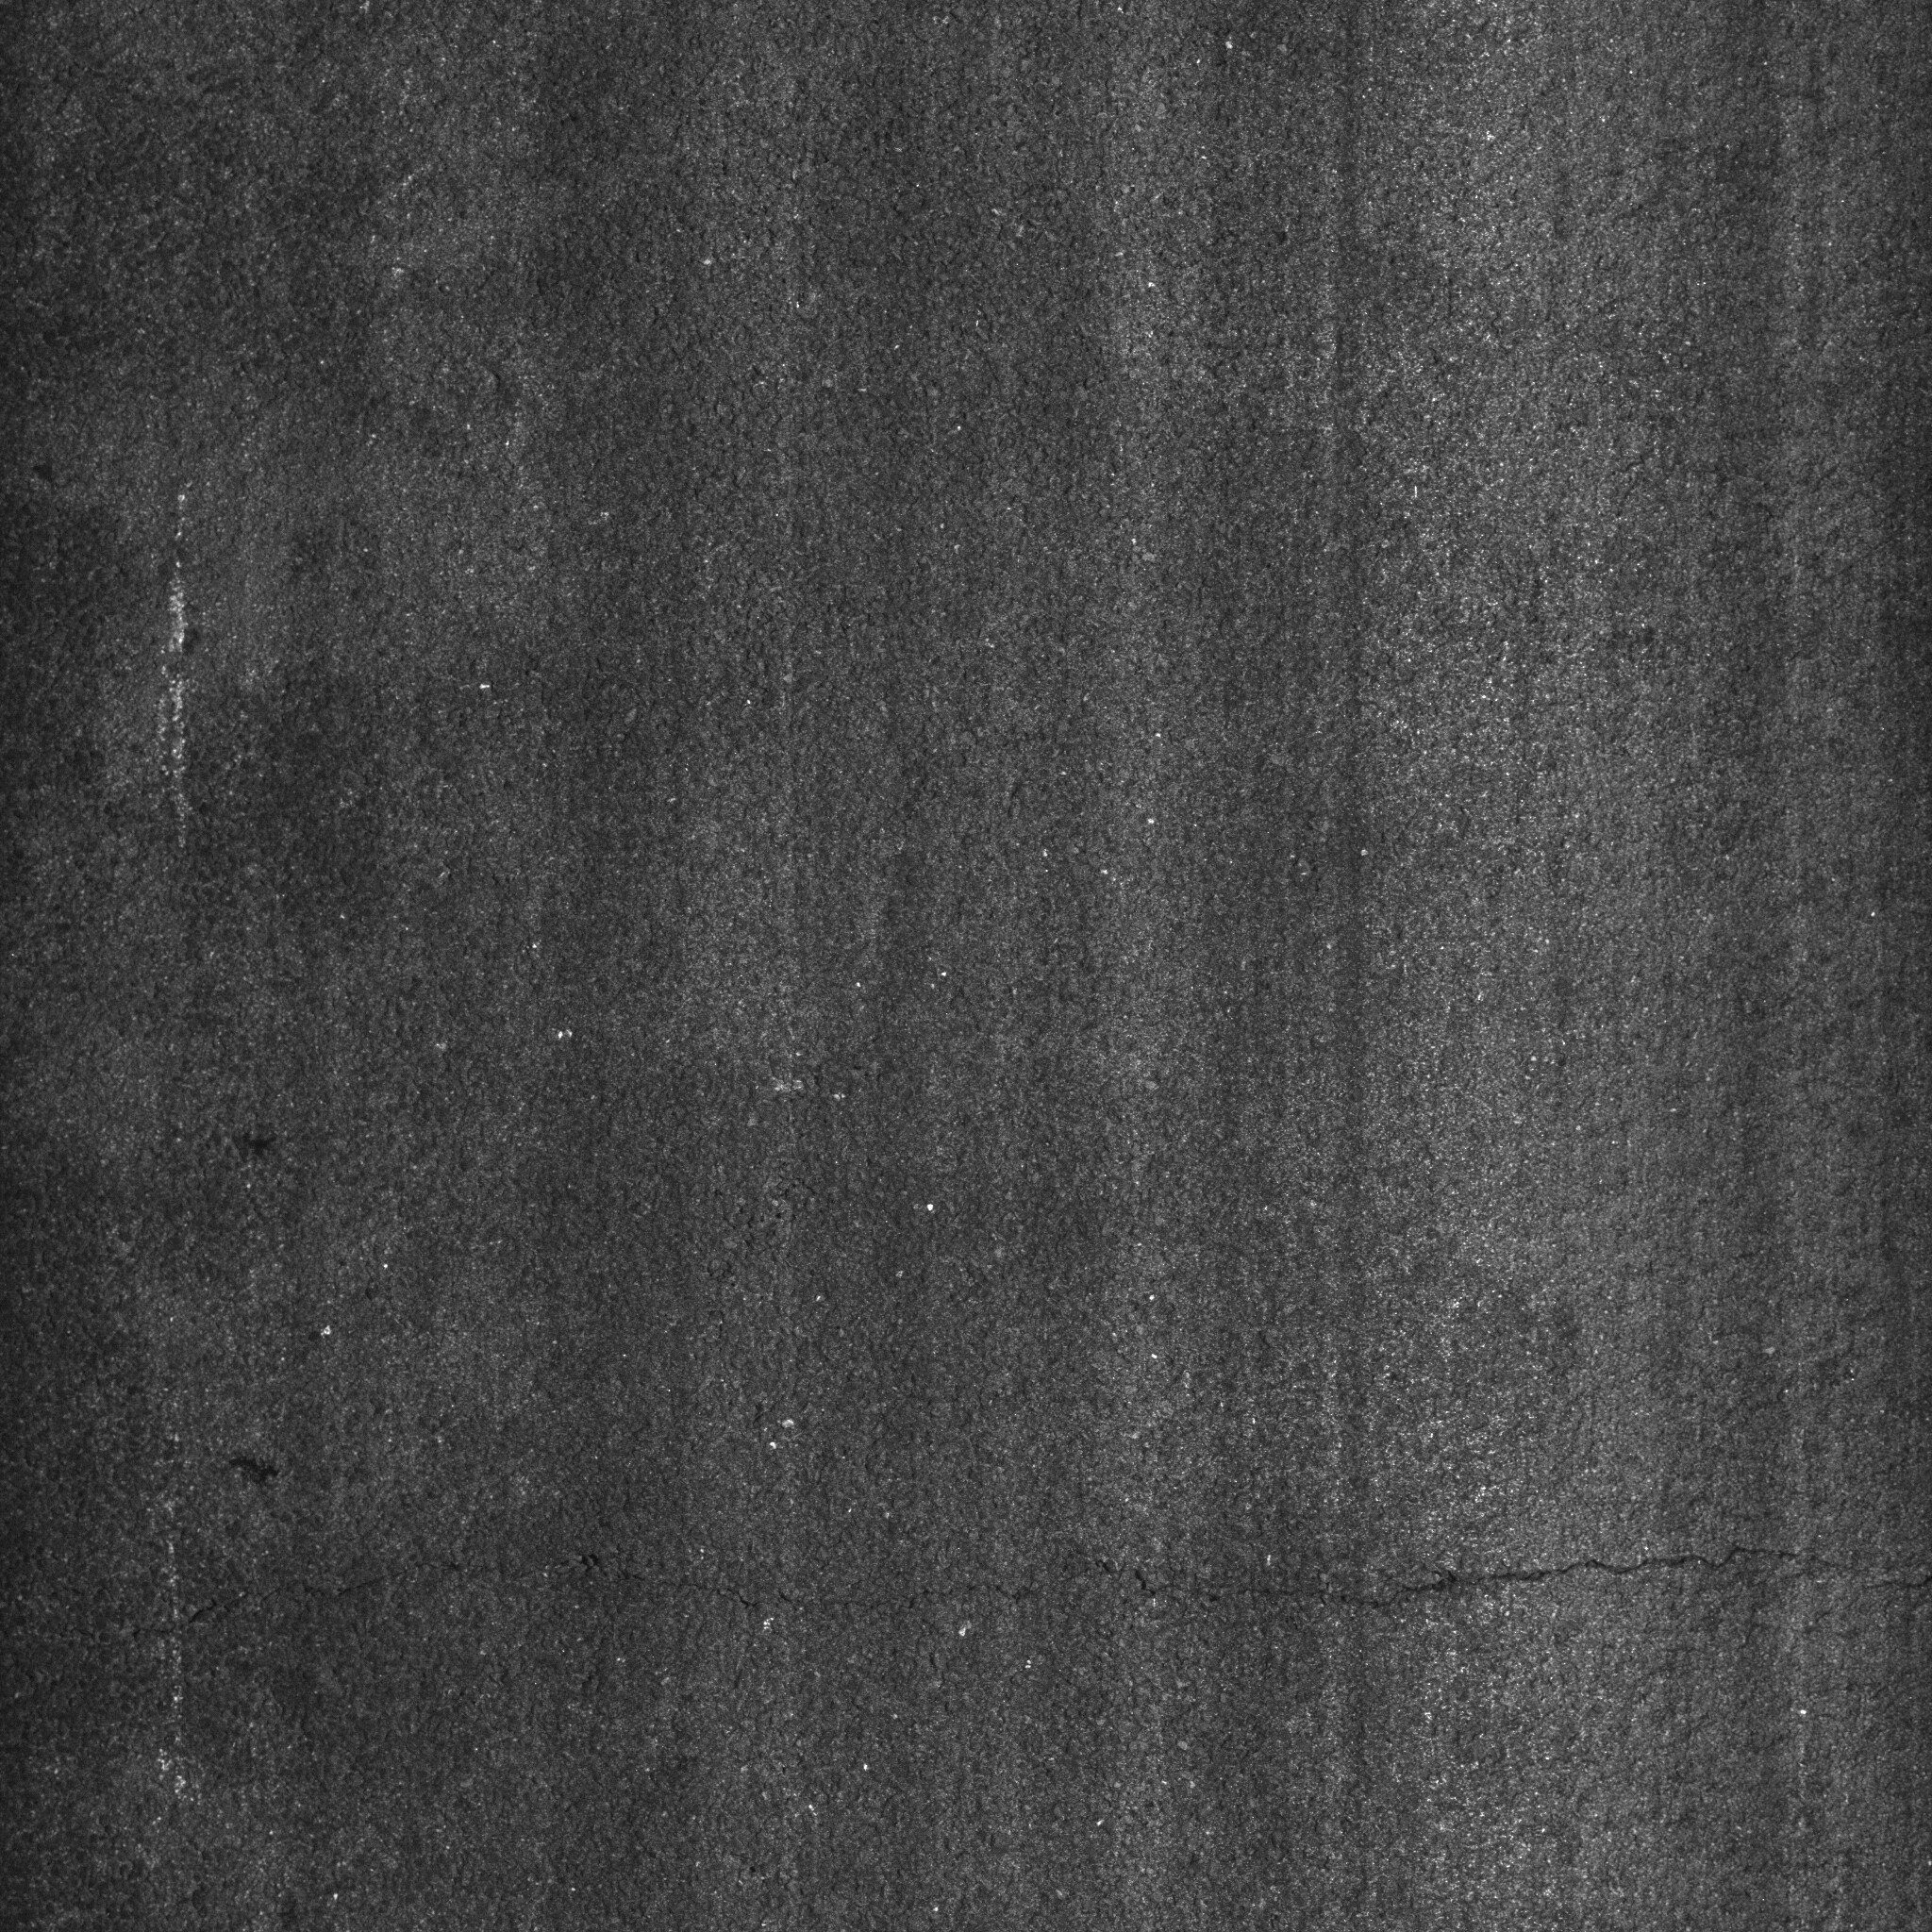transeverse: (126, 1530, 1932, 1647)
